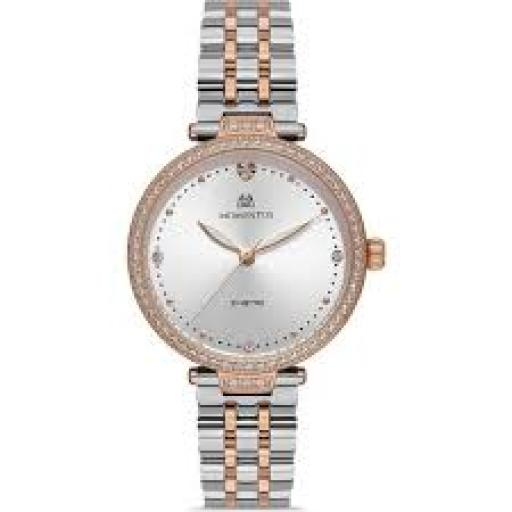KolSaati: (124, 0, 388, 512)
